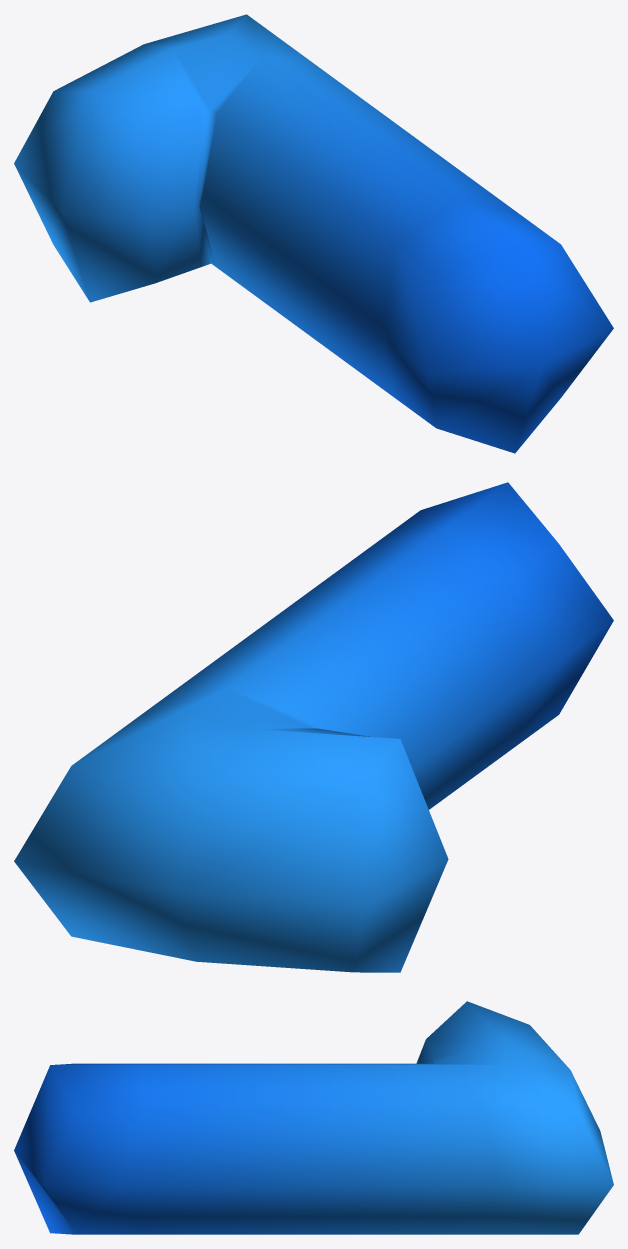
Rendered from CartoonFont_1.FBX.
The picture shows the model from 3 angles, top to bottom: view 1: azimuth 30°, elevation 25°; view 2: azimuth 150°, elevation 25°; view 3: azimuth 270°, elevation 25°; orthographic projection. The views are drawn at different scales.
Parts seen in each view (by area): view 1: 1; view 2: 1; view 3: 1.
Part boxes in pixels (x1,y1,x2,y2): 1: (14,14,613,453); 1: (14,482,613,972); 1: (14,1001,613,1234).
Size of the model in its own units: 13.76 by 9.4 by 30.41.
Materials: 1 (1 with a texture image).
